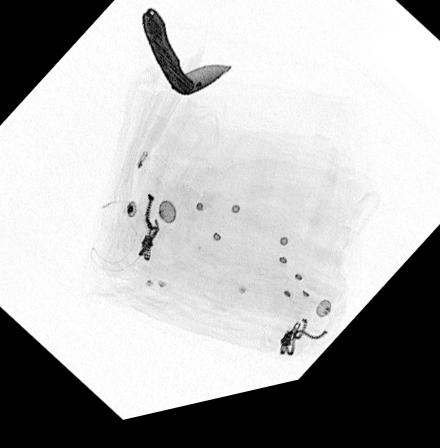Knife: (140, 12, 235, 104)
